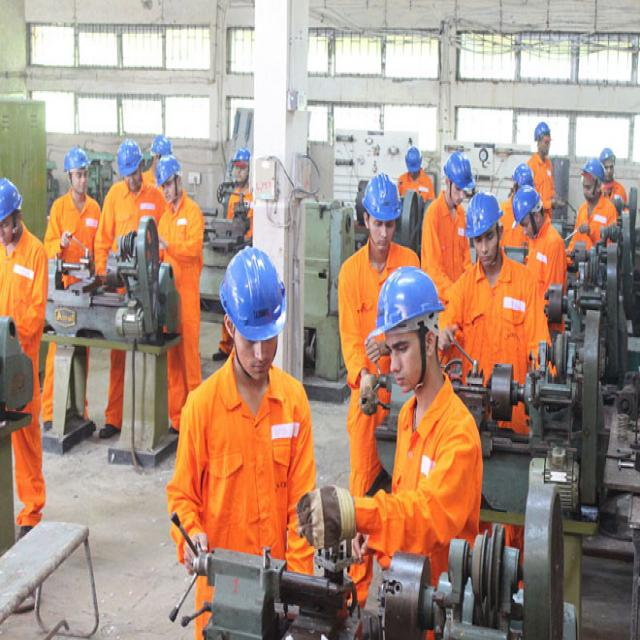Reflective-Jacket: (176, 360, 320, 587), (367, 378, 484, 569), (450, 257, 544, 424), (0, 231, 50, 348), (156, 192, 209, 284)
Safety-Helmet: (216, 239, 290, 346), (369, 263, 445, 344), (459, 190, 506, 240), (360, 168, 403, 222), (440, 146, 479, 195), (508, 184, 546, 228), (112, 135, 146, 181), (1, 174, 25, 228), (58, 141, 93, 178), (153, 152, 184, 189), (577, 154, 609, 186), (507, 159, 539, 188), (148, 131, 176, 163), (402, 141, 426, 175), (528, 115, 556, 144), (230, 144, 253, 168)
